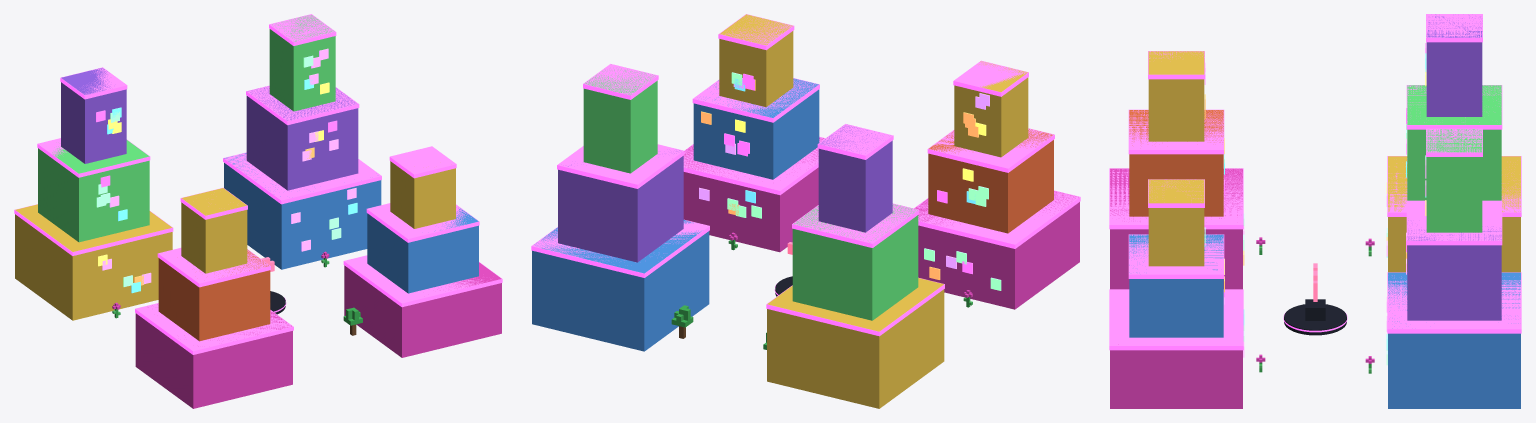
The picture shows the model from 3 angles, left to right: view 1: azimuth 30°, elevation 25°; view 2: azimuth 150°, elevation 25°; view 3: azimuth 270°, elevation 25°; orthographic projection. The views are drawn at different scales.
Visible parts, largest first — view 1: district_city_pixel.lod0; view 2: district_city_pixel.lod0; view 3: district_city_pixel.lod0.
Part boxes in pixels (box(x1,y1,x2,y2)): district_city_pixel.lod0: box(14, 14, 502, 408); district_city_pixel.lod0: box(531, 14, 1080, 408); district_city_pixel.lod0: box(1109, 14, 1521, 408).
Bounding box in the file's own units: 34.1 × 21.93 × 34.1.
